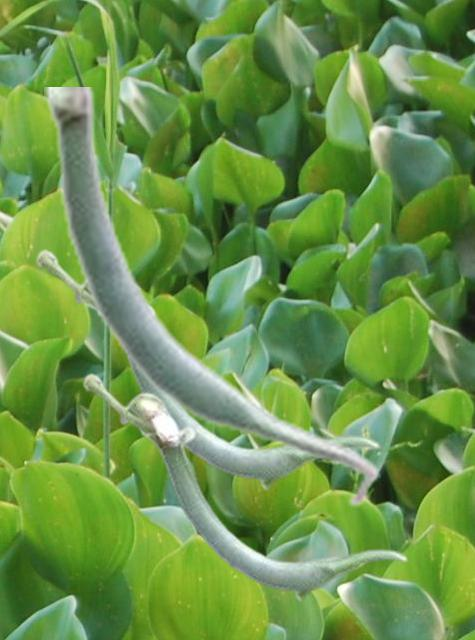french_bean: (44, 87, 379, 509), (35, 248, 379, 490), (82, 372, 407, 601)
